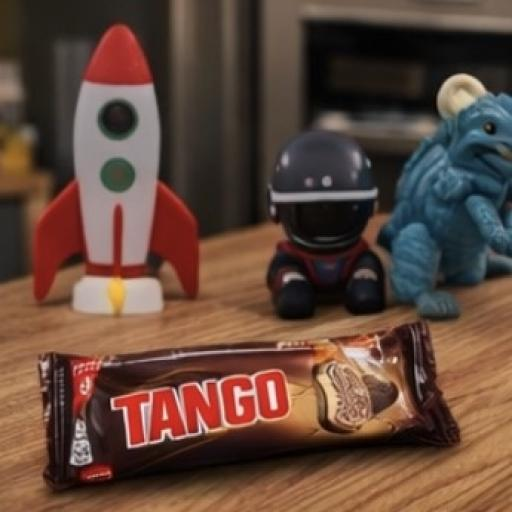tango: (19, 293, 480, 489)
